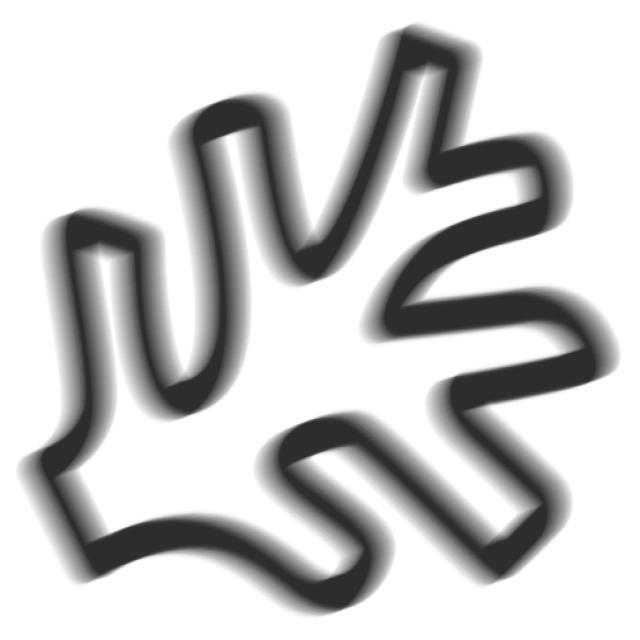coral: (11, 22, 622, 634)
